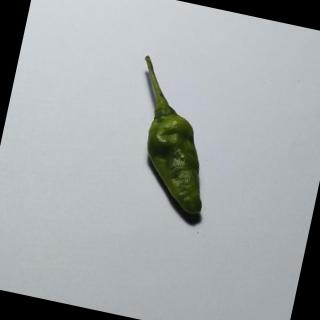Cabai Hijau: (105, 48, 239, 232)
